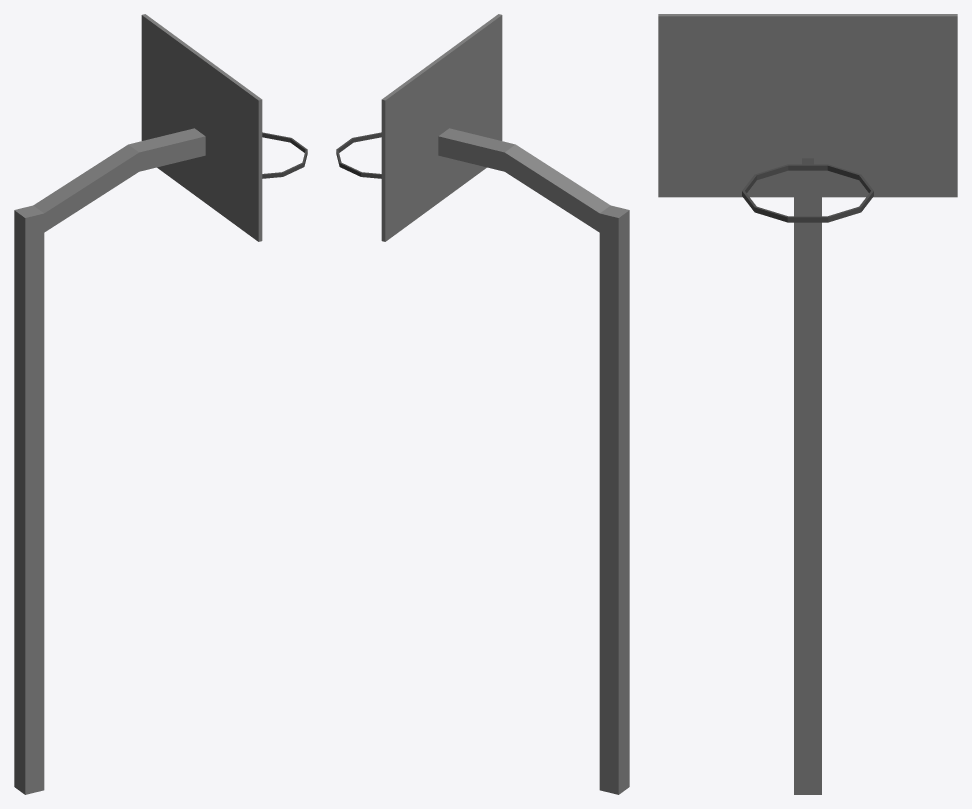
Rendered from Basket.fbx.
The picture shows the model from 3 angles, left to right: view 1: azimuth 30°, elevation 25°; view 2: azimuth 150°, elevation 25°; view 3: azimuth 270°, elevation 25°; orthographic projection. The views are drawn at different scales.
Visible parts, largest first — view 1: Cube_1; view 2: Cube_1; view 3: Cube_1.
Part boxes in pixels (x1=…): Cube_1: x1=14, y1=14, x2=307, y2=794; Cube_1: x1=336, y1=14, x2=629, y2=794; Cube_1: x1=658, y1=14, x2=957, y2=794.
Bounding box in the file's own units: 147 × 346 × 107.
1 material, 1 textured.
